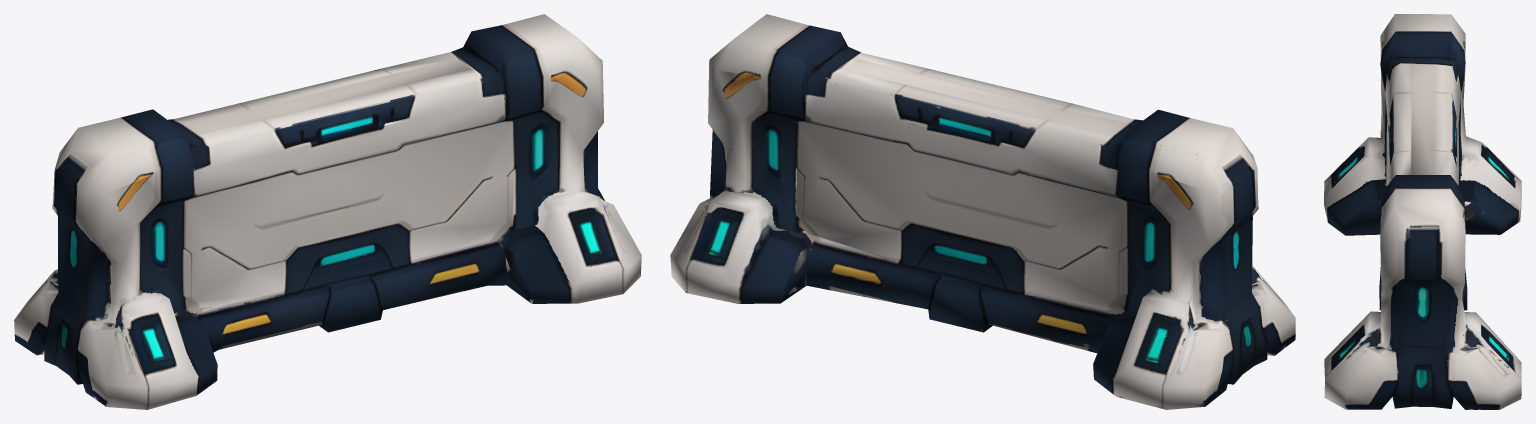
File: industrial-cover-barricade_LOD2.glb
The picture shows the model from 3 angles, left to right: view 1: azimuth 30°, elevation 25°; view 2: azimuth 150°, elevation 25°; view 3: azimuth 270°, elevation 25°; orthographic projection. The views are drawn at different scales.
Parts seen in each view (by area): view 1: industrial-cover-barricade_LOD2; view 2: industrial-cover-barricade_LOD2; view 3: industrial-cover-barricade_LOD2.
Part boxes in pixels (<box>): industrial-cover-barricade_LOD2: <box>14,14,641,409</box>; industrial-cover-barricade_LOD2: <box>670,14,1295,409</box>; industrial-cover-barricade_LOD2: <box>1324,14,1521,409</box>.
Size of the model in its own units: 2.45 by 0.9892 by 0.9272.
Materials: 1 (1 with a texture image).
